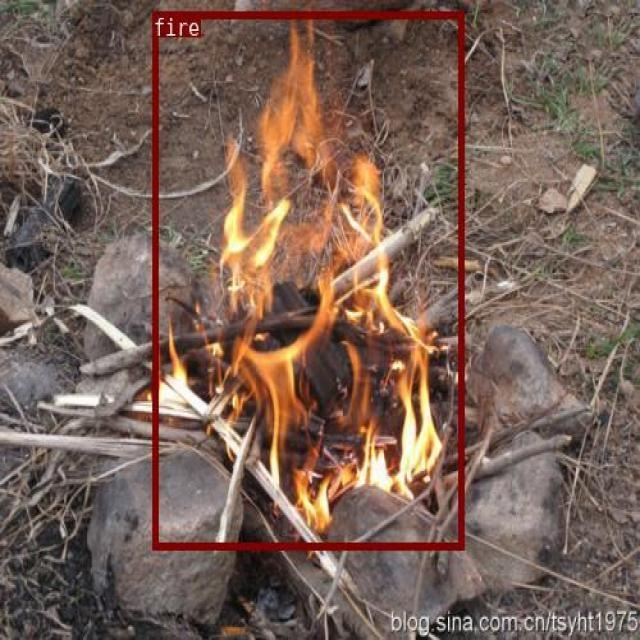fire: (152, 10, 463, 548)
